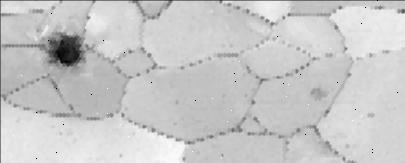good_void: (43, 29, 95, 77), (310, 86, 329, 101), (364, 110, 376, 119), (171, 98, 183, 107), (219, 150, 226, 159), (117, 150, 123, 159), (84, 15, 92, 21), (181, 155, 187, 162), (249, 98, 255, 105)
